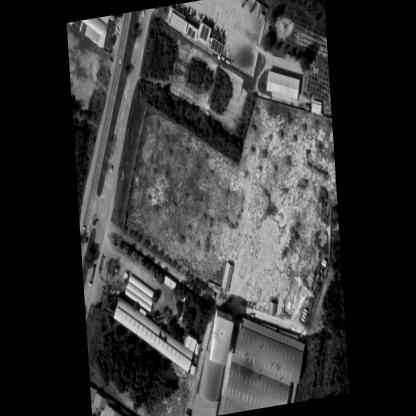solar-pv-panel: (210, 39, 222, 55), (199, 24, 209, 41), (187, 28, 195, 39)
